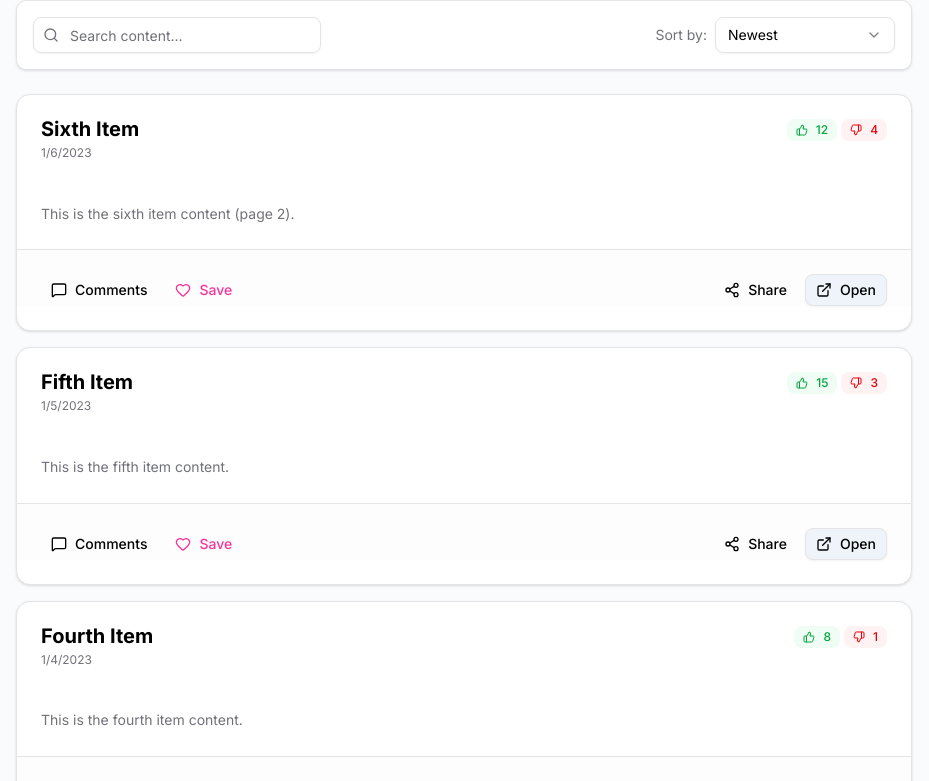
Test case: ContentList Component › handles sorting
This screenshot has width=929, height=781.
# Open select
Click the dropdown at coordinates (805, 35), box [715,17,895,53]
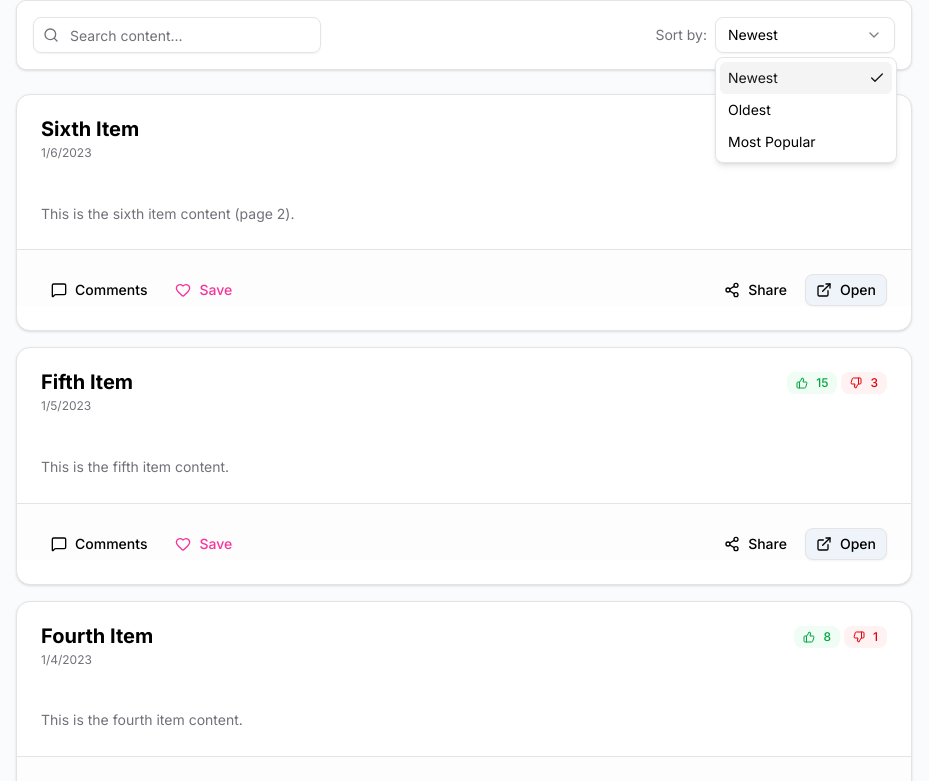
# Select Oldest - use findByText which is more robust for some portals
Click the option "Oldest" at coordinates (749, 110), box [728,101,771,118]
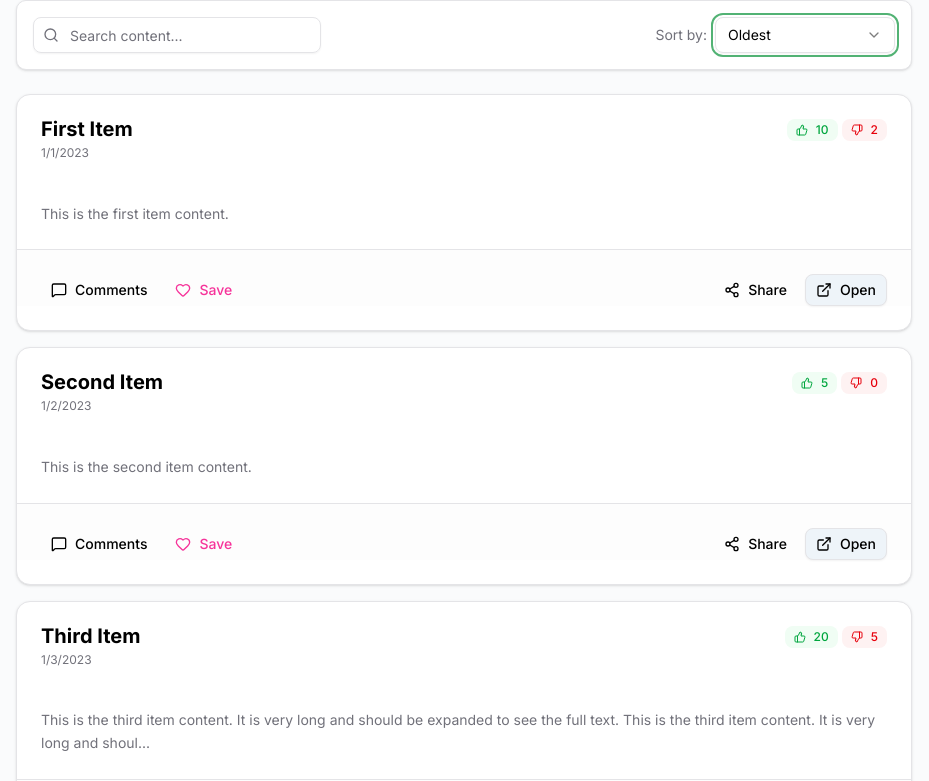
Result: the link "First Item" is shown at [41,117,133,141]
Result: the link "Sixth Item" is gone
